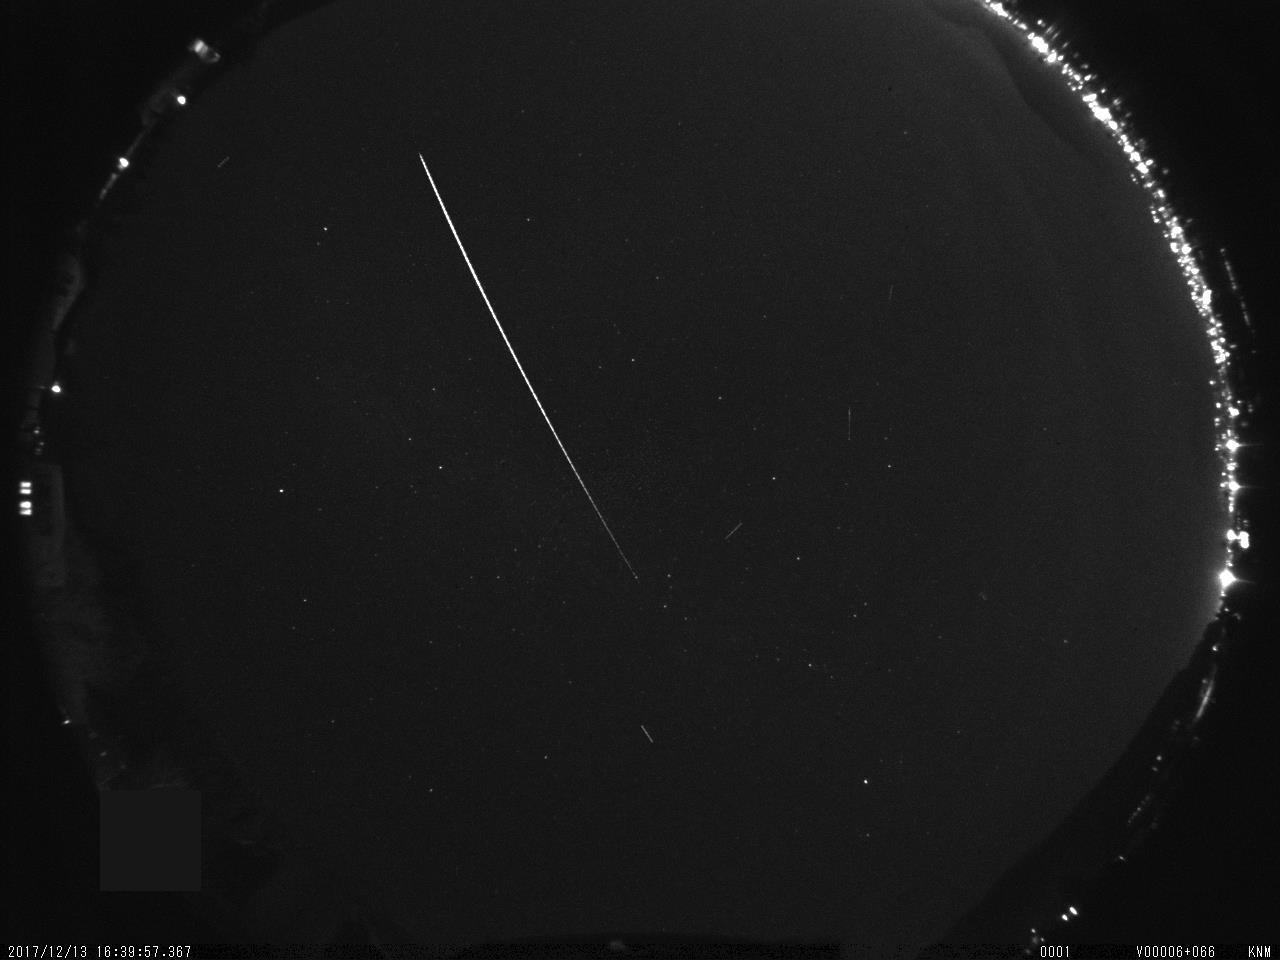Meteor: (415, 146, 643, 585), (720, 516, 751, 548), (843, 396, 860, 451)
